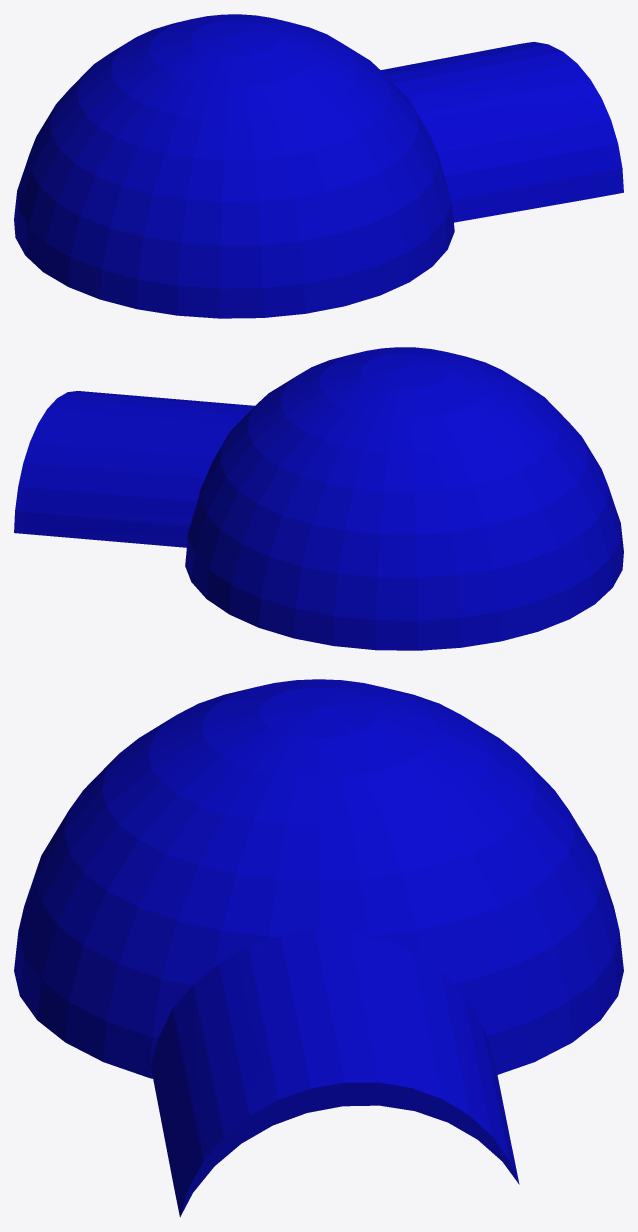
The model's file is Gorra Azul.obj.
3 views of the same model, one above another, from view 1: azimuth 30°, elevation 25°; view 2: azimuth 150°, elevation 25°; view 3: azimuth 270°, elevation 25° (orthographic). The views are drawn at different scales.
Visible parts, largest first — view 1: Esfera, Cilindro; view 2: Esfera, Cilindro; view 3: Esfera, Cilindro.
Boxes of the visible parts, x1,y1,x2,y2 form: Esfera: [14, 14, 623, 318]; Cilindro: [406, 64, 623, 222]; Esfera: [14, 347, 623, 650]; Cilindro: [14, 391, 254, 533]; Esfera: [14, 679, 623, 1217]; Cilindro: [150, 936, 519, 1216].
Bounding box in the file's own units: 2.78 × 1.01 × 1.99.
